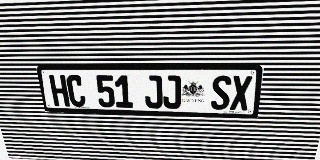1: (113, 75, 133, 108)
5: (96, 75, 116, 108)
C: (65, 75, 86, 107)
H: (49, 75, 70, 107)
J: (144, 75, 163, 109), (163, 75, 181, 109)
S: (210, 75, 232, 110)
X: (230, 76, 252, 110)
